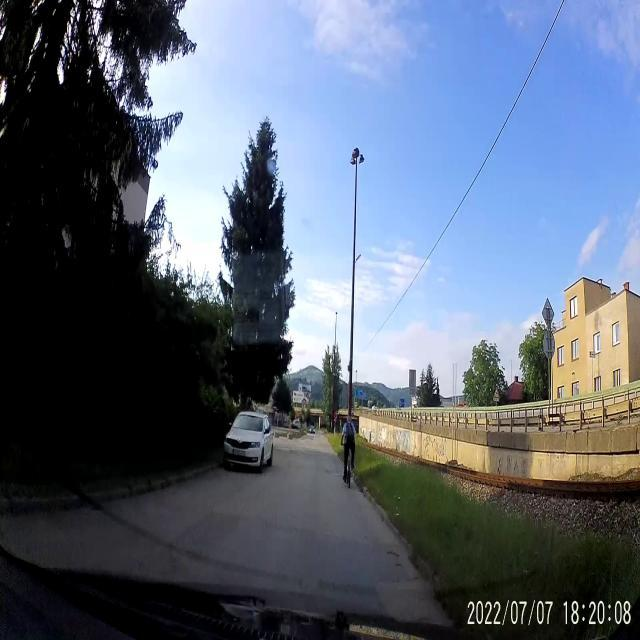Pothole: (382, 544, 403, 573)
